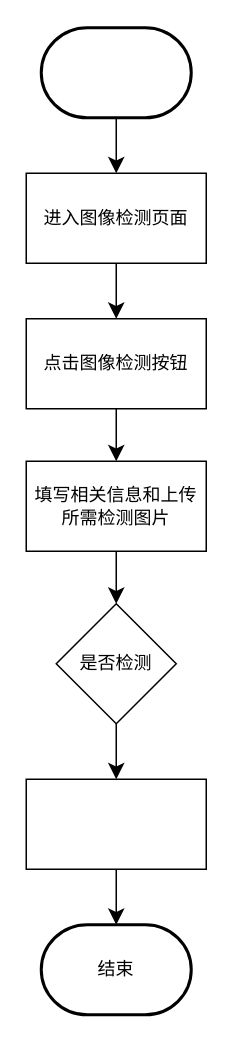
Image size: 233x1041. Some labels were removed from this diagram. Each missing label, with the centre of its shape:
开始: (115,72)
检测成功: (115,823)
